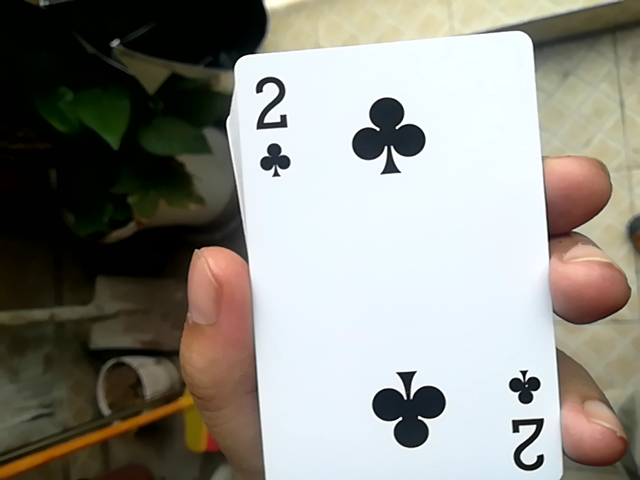mh 2: (213, 27, 551, 480)
